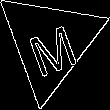M_N: (21, 11, 79, 75)
